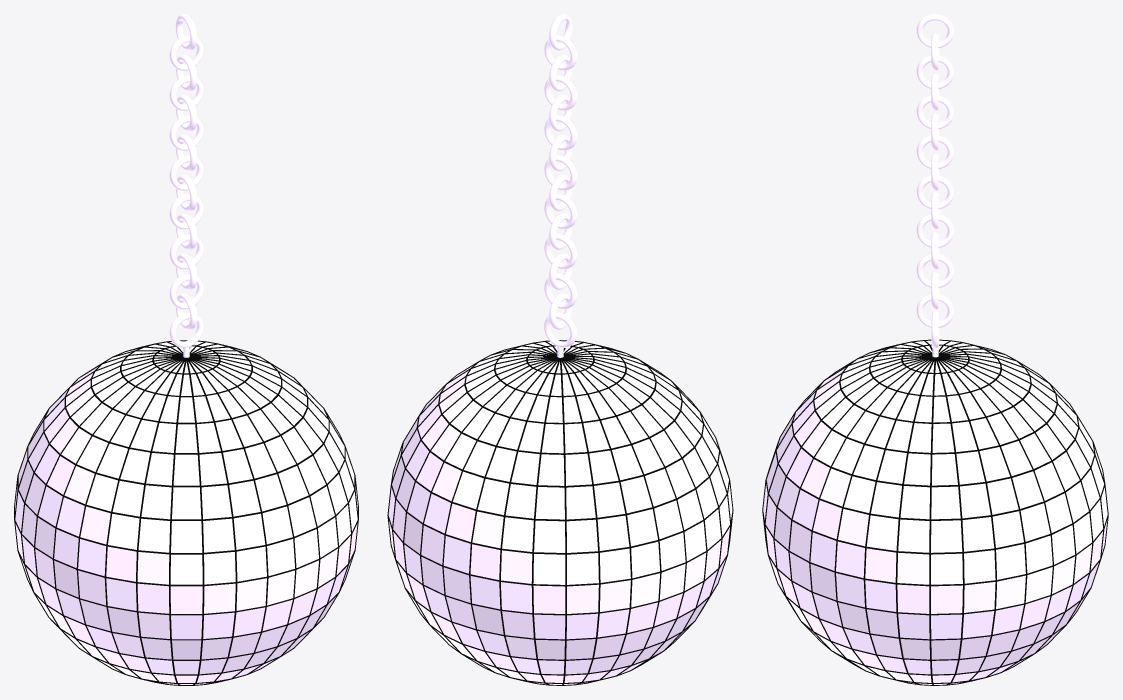
Rendered from disco_ball.glb.
The picture shows the model from 3 angles, left to right: view 1: azimuth 30°, elevation 25°; view 2: azimuth 150°, elevation 25°; view 3: azimuth 270°, elevation 25°; orthographic projection.
Visible parts, largest first — view 1: Sphere, Torus.017; view 2: Sphere, Torus.017; view 3: Sphere, Torus.017.
Part boxes in pixels (box(x1,y1,x2,y2)): Sphere: box(14, 340, 358, 685); Torus.017: box(169, 14, 203, 357); Sphere: box(387, 340, 733, 685); Torus.017: box(544, 14, 577, 357); Sphere: box(762, 339, 1108, 685); Torus.017: box(916, 14, 953, 357).
Size of the model in its own units: 8.44 by 17.61 by 8.44.
